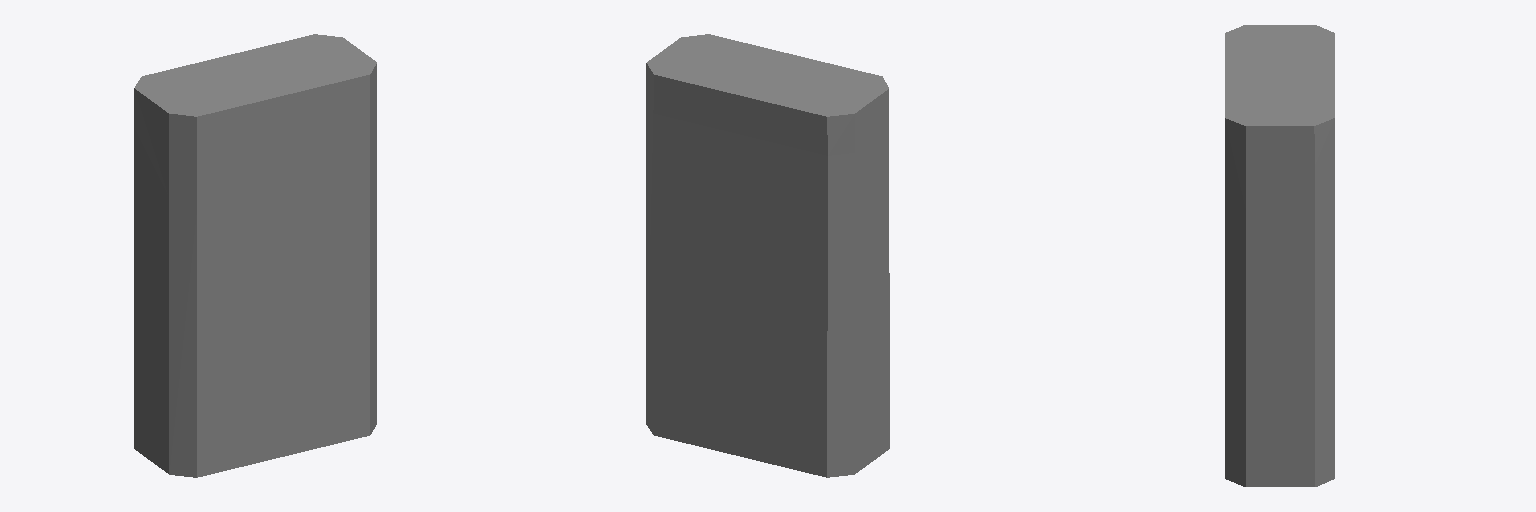
File: CigaretteBox2.obj
3 views of the same model, side by side, from view 1: azimuth 30°, elevation 25°; view 2: azimuth 150°, elevation 25°; view 3: azimuth 270°, elevation 25° (orthographic).
Visible parts, largest first — view 1: CigaretteBox2; view 2: CigaretteBox2; view 3: CigaretteBox2.
Part boxes in pixels (left/top/right/bottom): CigaretteBox2: left=134, top=34, right=376, bottom=477; CigaretteBox2: left=646, top=34, right=889, bottom=477; CigaretteBox2: left=1225, top=25, right=1334, bottom=486.
Bounding box in the file's own units: 2.25 × 3.73 × 1.03.